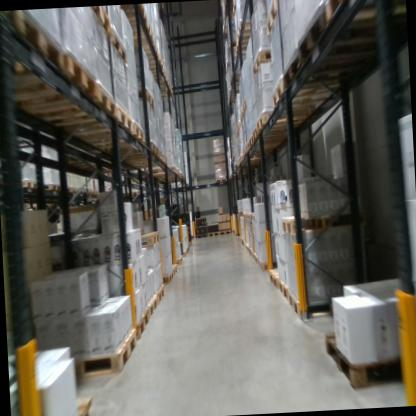pallet: (293, 0, 404, 69), (7, 49, 100, 120), (324, 318, 416, 386), (0, 11, 66, 82), (71, 327, 140, 384), (40, 83, 117, 133), (280, 56, 376, 92), (268, 75, 360, 108), (279, 205, 363, 238), (286, 280, 352, 319), (68, 104, 134, 141), (69, 119, 148, 146), (317, 0, 404, 22), (255, 107, 310, 136), (251, 121, 308, 143), (103, 138, 159, 160), (107, 145, 164, 165), (86, 6, 115, 39), (114, 153, 169, 169), (109, 29, 131, 67), (115, 3, 149, 26), (251, 47, 274, 78), (264, 0, 283, 36), (125, 21, 154, 43), (247, 130, 281, 148), (131, 306, 149, 339), (73, 391, 96, 416), (134, 38, 160, 60), (136, 230, 159, 254), (246, 140, 284, 154), (235, 19, 258, 40), (233, 36, 256, 55), (143, 292, 159, 319), (258, 255, 283, 272), (238, 152, 273, 164), (146, 164, 177, 177), (19, 176, 43, 192), (268, 266, 284, 290), (43, 180, 66, 195), (277, 278, 290, 303), (138, 90, 155, 109), (156, 283, 166, 306), (160, 270, 174, 285), (231, 0, 242, 18), (218, 227, 232, 237), (242, 95, 249, 114), (192, 232, 208, 240), (77, 185, 88, 196), (238, 105, 245, 122), (168, 264, 177, 276), (207, 230, 220, 238), (253, 252, 259, 267), (213, 177, 227, 183), (174, 255, 184, 263), (241, 146, 249, 155), (71, 185, 79, 194), (86, 188, 95, 196), (65, 184, 72, 194), (94, 186, 101, 196), (250, 247, 255, 260), (251, 211, 256, 222), (247, 212, 253, 221), (242, 210, 248, 218)
